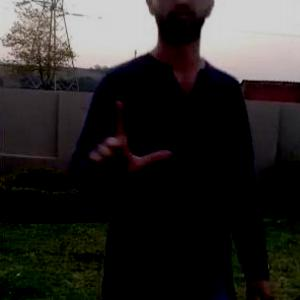land_hand: (81, 96, 171, 190)
